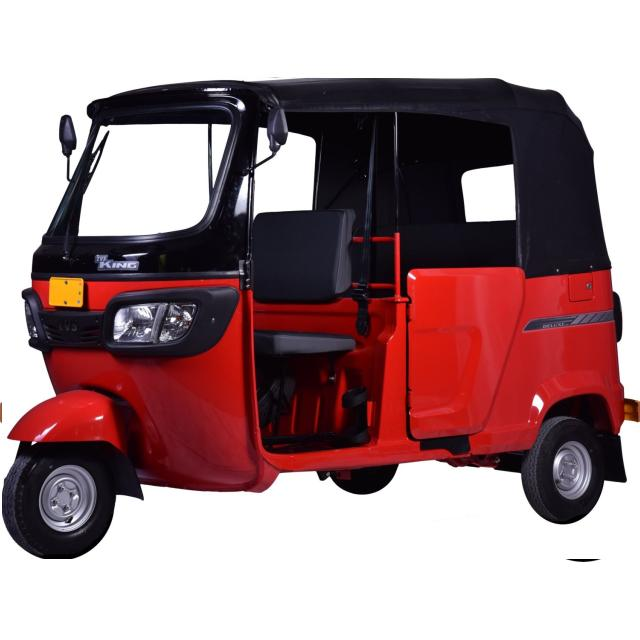autorickshaw: (2, 79, 640, 559)
